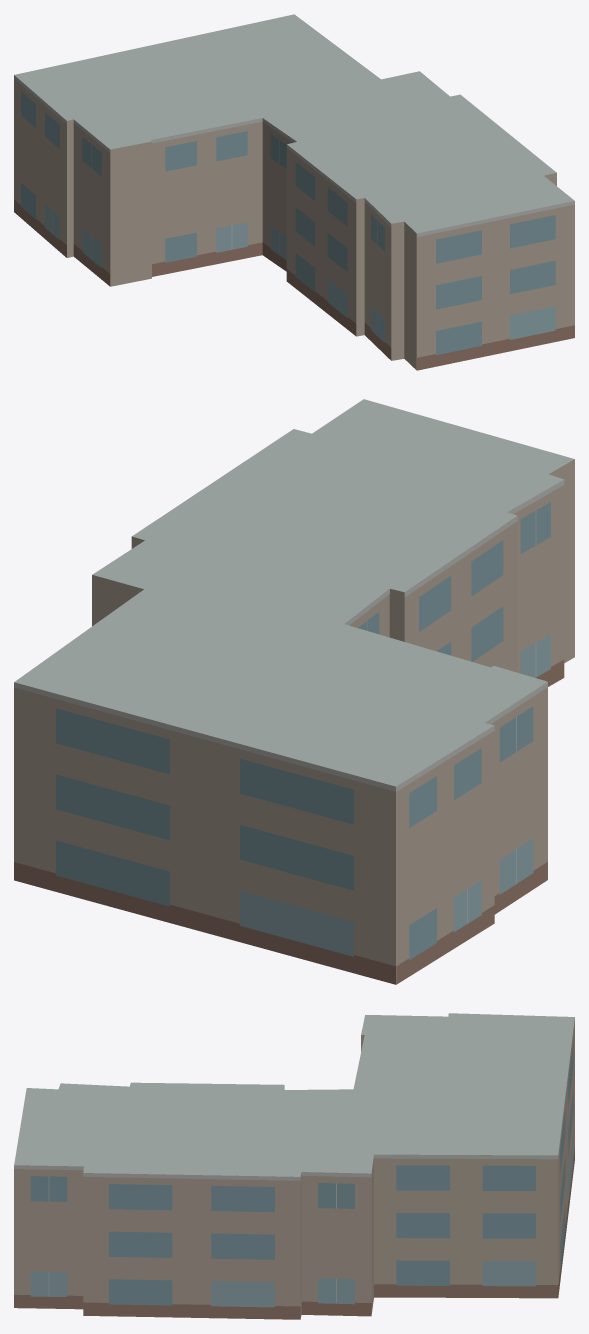
File: survey-upis-32945055.glb
The picture shows the model from 3 angles, top to bottom: view 1: azimuth 30°, elevation 25°; view 2: azimuth 150°, elevation 25°; view 3: azimuth 270°, elevation 25°; orthographic projection. The views are drawn at different scales.
Parts seen in each view (by area): view 1: survey-upis-32945055.tmp; view 2: survey-upis-32945055.tmp; view 3: survey-upis-32945055.tmp.
Boxes of the visible parts, x1,y1,x2,y2 form: survey-upis-32945055.tmp: (14,14,574,370); survey-upis-32945055.tmp: (14,399,574,984); survey-upis-32945055.tmp: (14,1013,574,1319).
Bounding box in the file's own units: 22.51 × 9.15 × 32.57.
